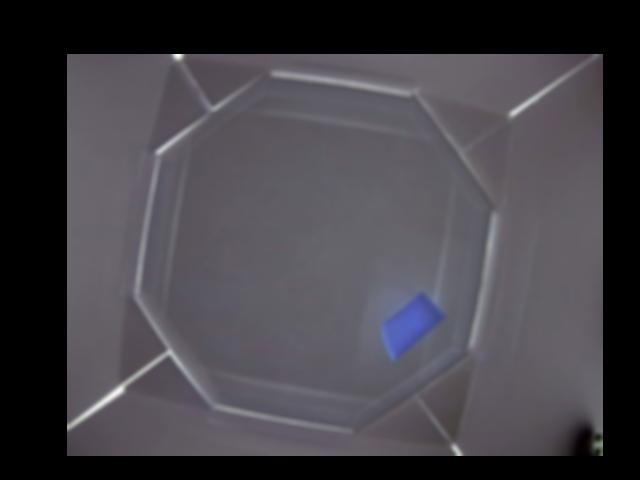Potato: (381, 290, 448, 360)
